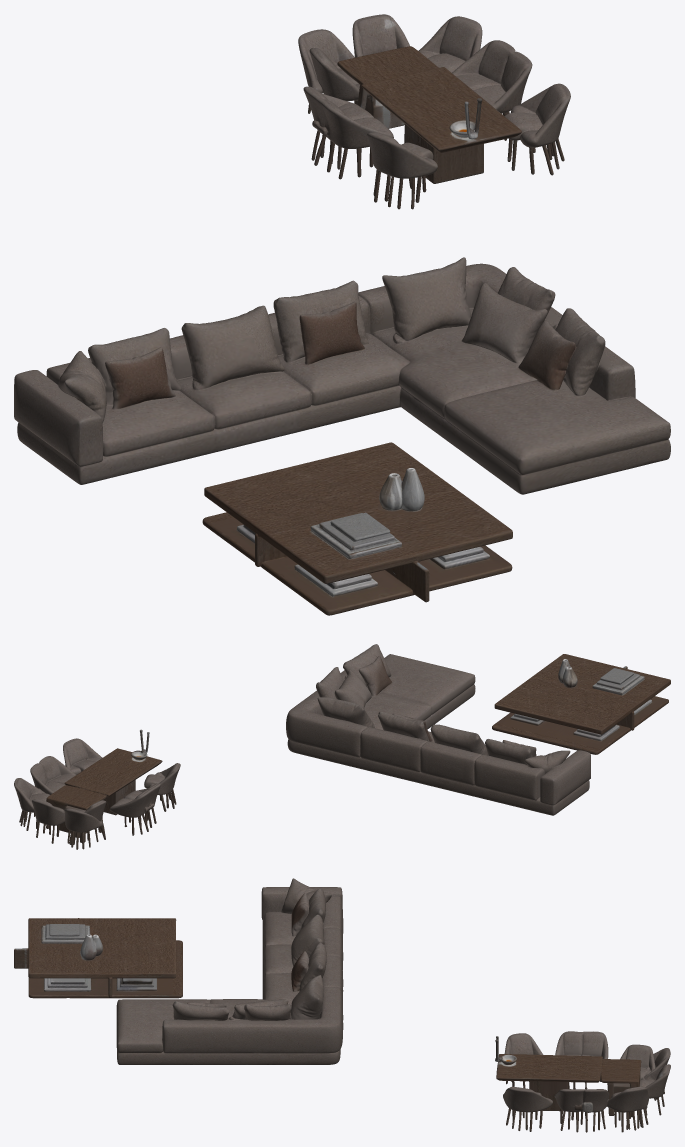
Rendered from oba_furniture_032.glb.
3 renders of one model, top to bottom at view 1: azimuth 30°, elevation 25°; view 2: azimuth 150°, elevation 25°; view 3: azimuth 270°, elevation 25°, orthographic. The views are drawn at different scales.
Bounding box in the file's own units: 1.44 × 0.2036 × 1.91.
1 material, 1 textured.
